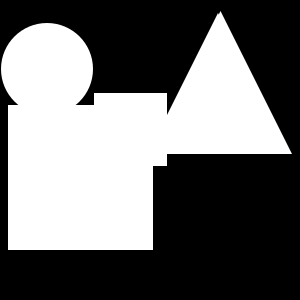circle: (8, 105, 153, 250), (94, 93, 167, 166)
rectangle: (1, 23, 93, 115)
triangle: (149, 11, 292, 154), (148, 13, 288, 153)
